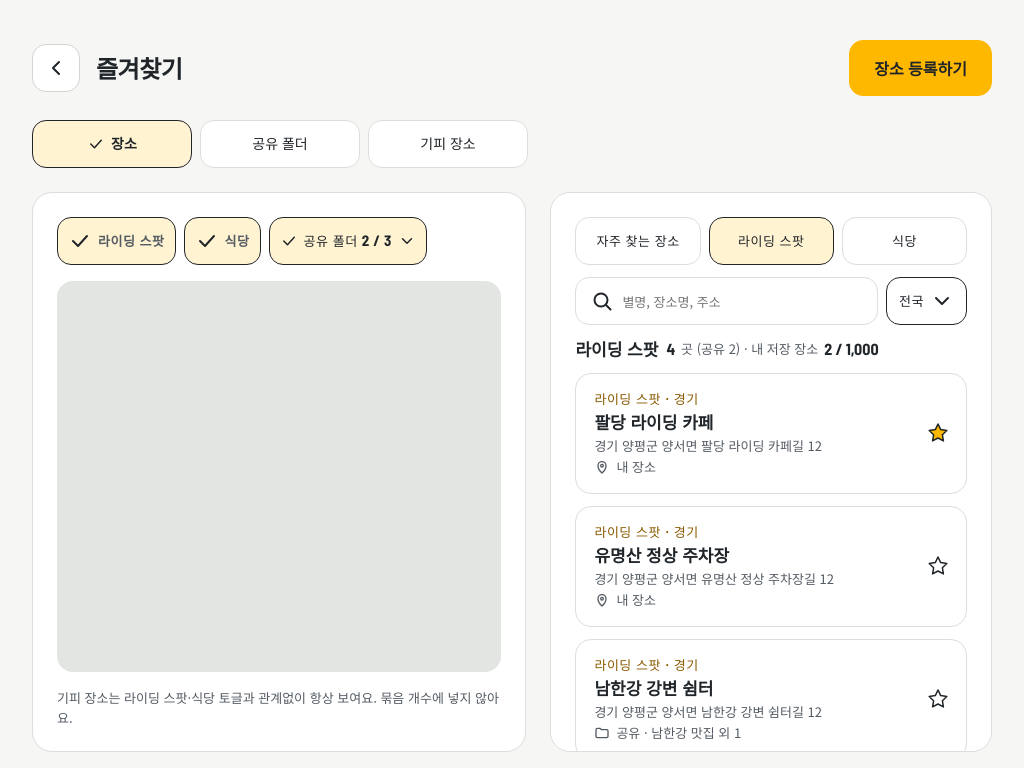
favorites places view with shared folders (G00, G00a, G00b) › shows every star in the frequent tab, including a disabled folder's, in starred order
This screenshot has width=1024, height=768.
What coordinates should you click on to do the following:
click the button "자주 찾는 장소"
I would click on:
 (638, 241)
Its box is left=575, top=217, right=701, bottom=265.
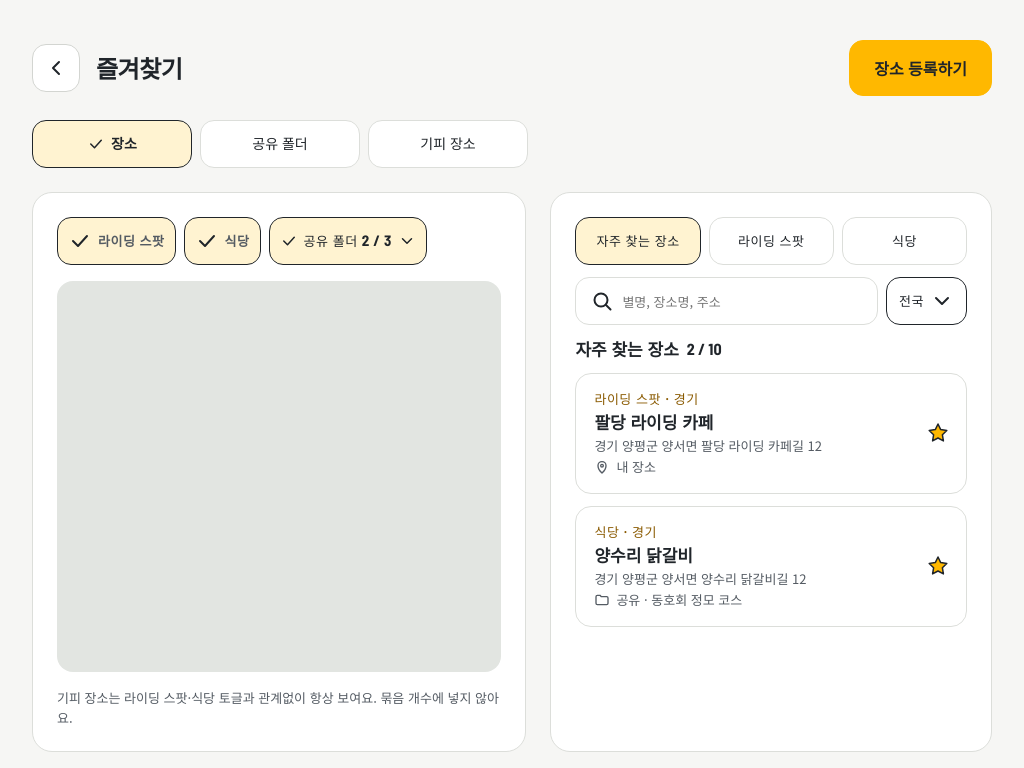
Now the text "2 / 10" is shown, box left=687, top=339, right=722, bottom=358
